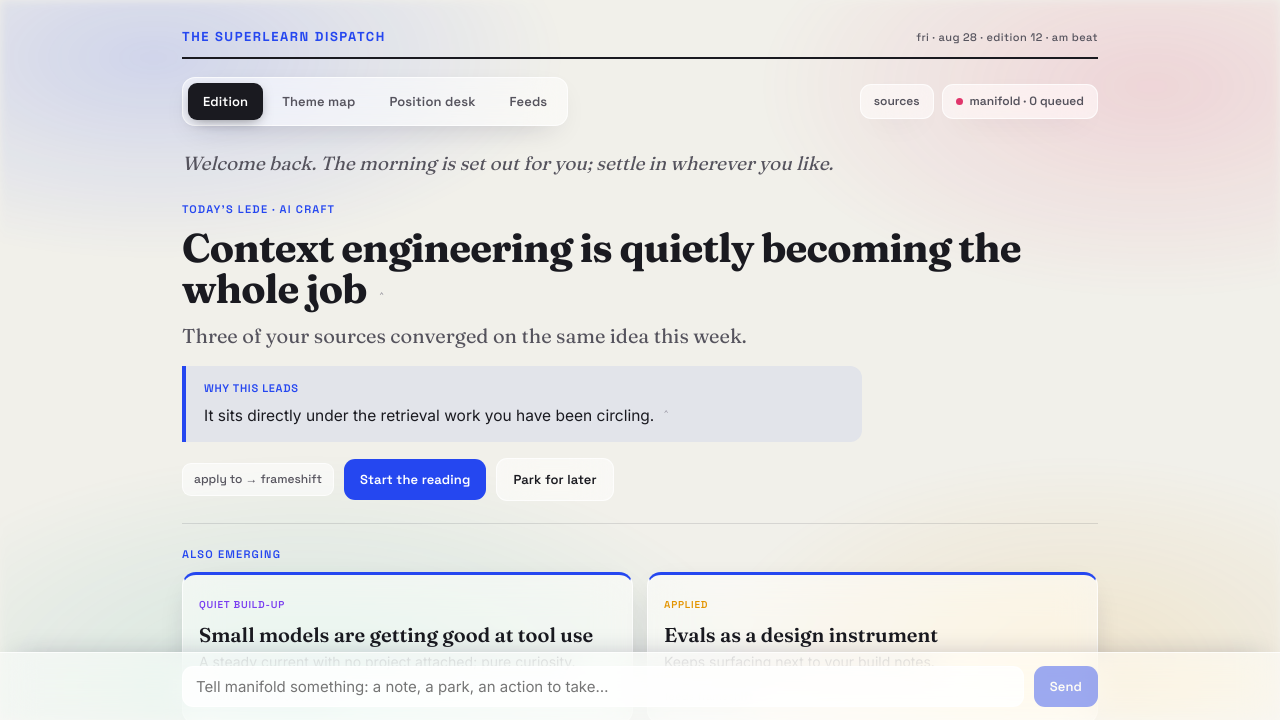
Test: citations › deep-links a cited source into the Feeds tab via Open in Feeds
Expected: the heading "Context engineering is quietly becoming the whole job" is shown, x1=182 y1=222 x2=1021 y2=313
Click the button named "sources for the lede" at [382, 299], box x1=374 y1=290 x2=389 y2=307
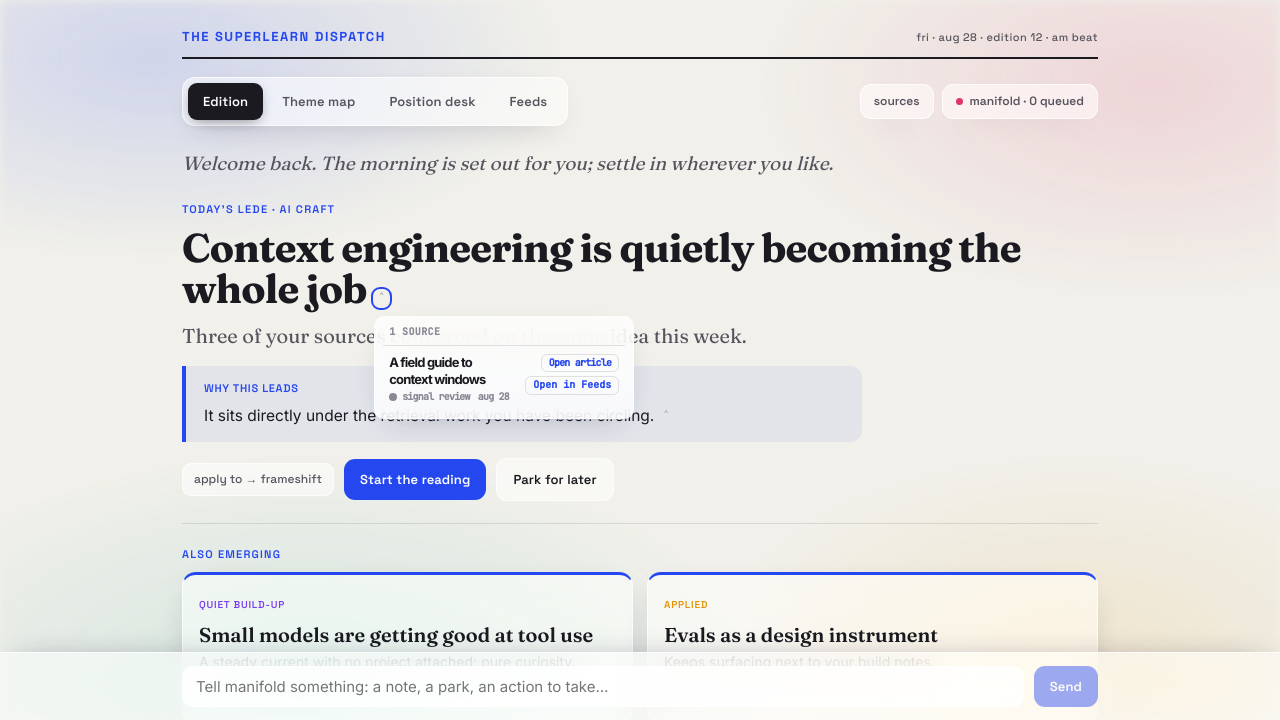
Click the button "Open in Feeds" at [572, 386], box x1=525 y1=376 x2=619 y2=395
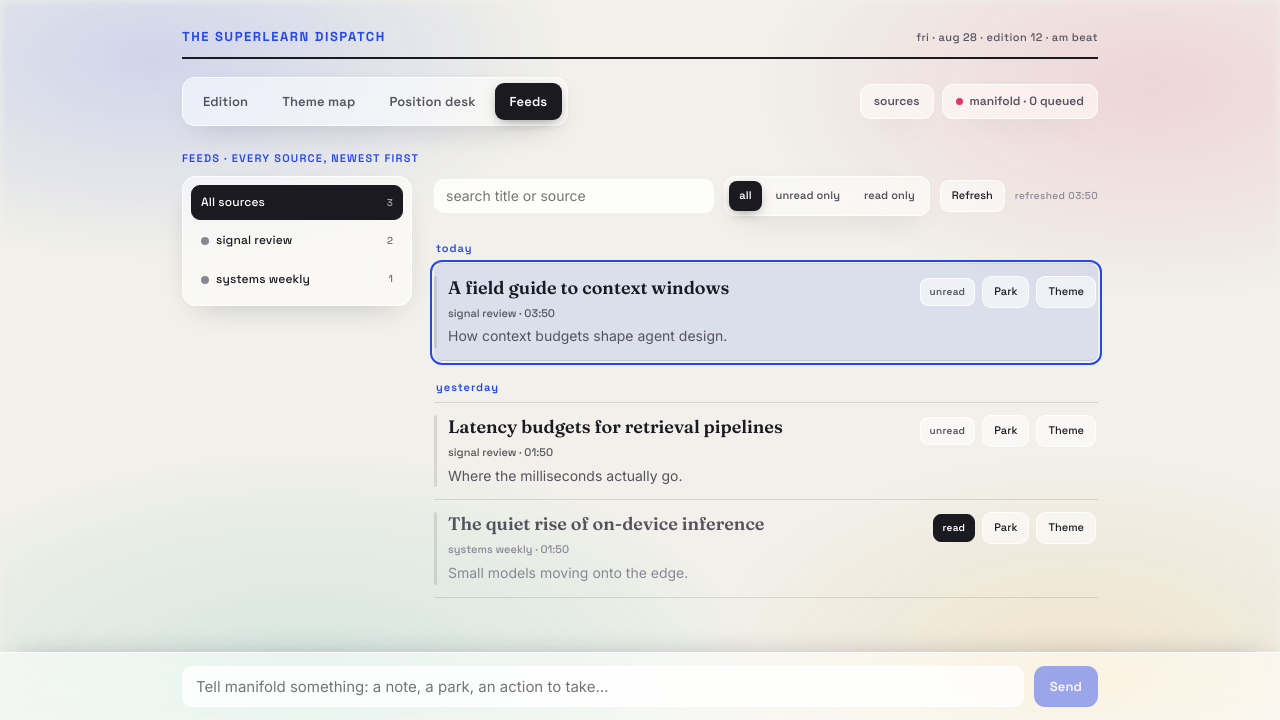
Now the navigation bar "sources" is shown, box x1=182 y1=176 x2=412 y2=306
Now the element "A field guide to context windows" is shown, box x1=434 y1=264 x2=1098 y2=361
Now the heading "Context engineering is quietly becoming the whole job" is gone
